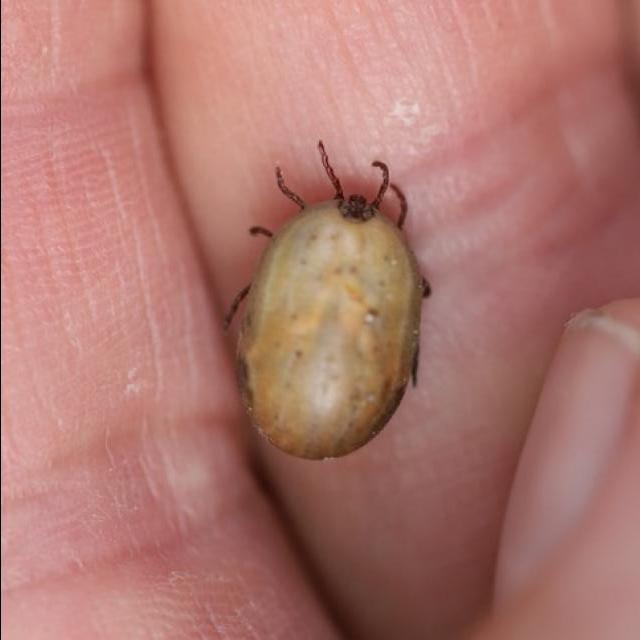Dermacentor Reticulatus-F-Fed: (223, 141, 431, 461)
